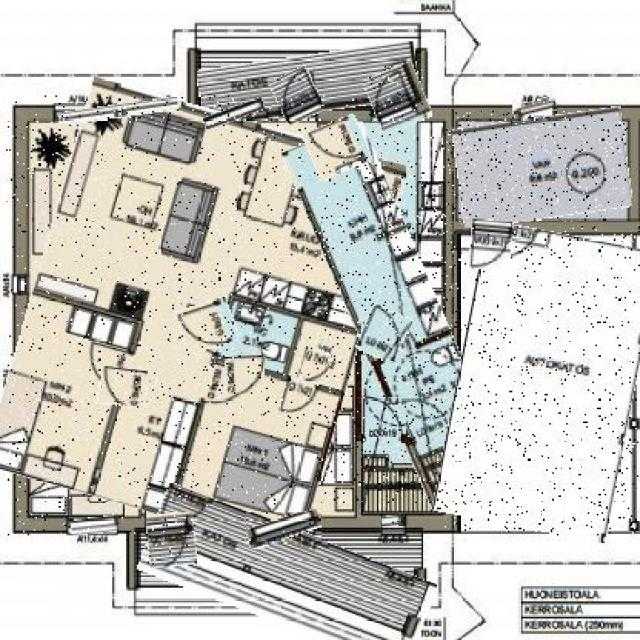door: (368, 66, 429, 131), (308, 118, 369, 177), (178, 300, 237, 351), (272, 67, 322, 121), (360, 306, 409, 360), (148, 514, 197, 566), (360, 397, 406, 443), (471, 220, 511, 269), (99, 368, 146, 408), (224, 355, 264, 394), (300, 348, 331, 383)
window: (246, 514, 322, 544), (58, 102, 178, 120), (203, 103, 265, 125), (71, 517, 118, 535), (514, 98, 557, 115), (382, 517, 406, 526)
zone: (6, 97, 383, 537), (318, 122, 477, 509), (444, 226, 640, 535), (140, 506, 434, 640), (456, 112, 630, 223), (198, 48, 420, 120)
